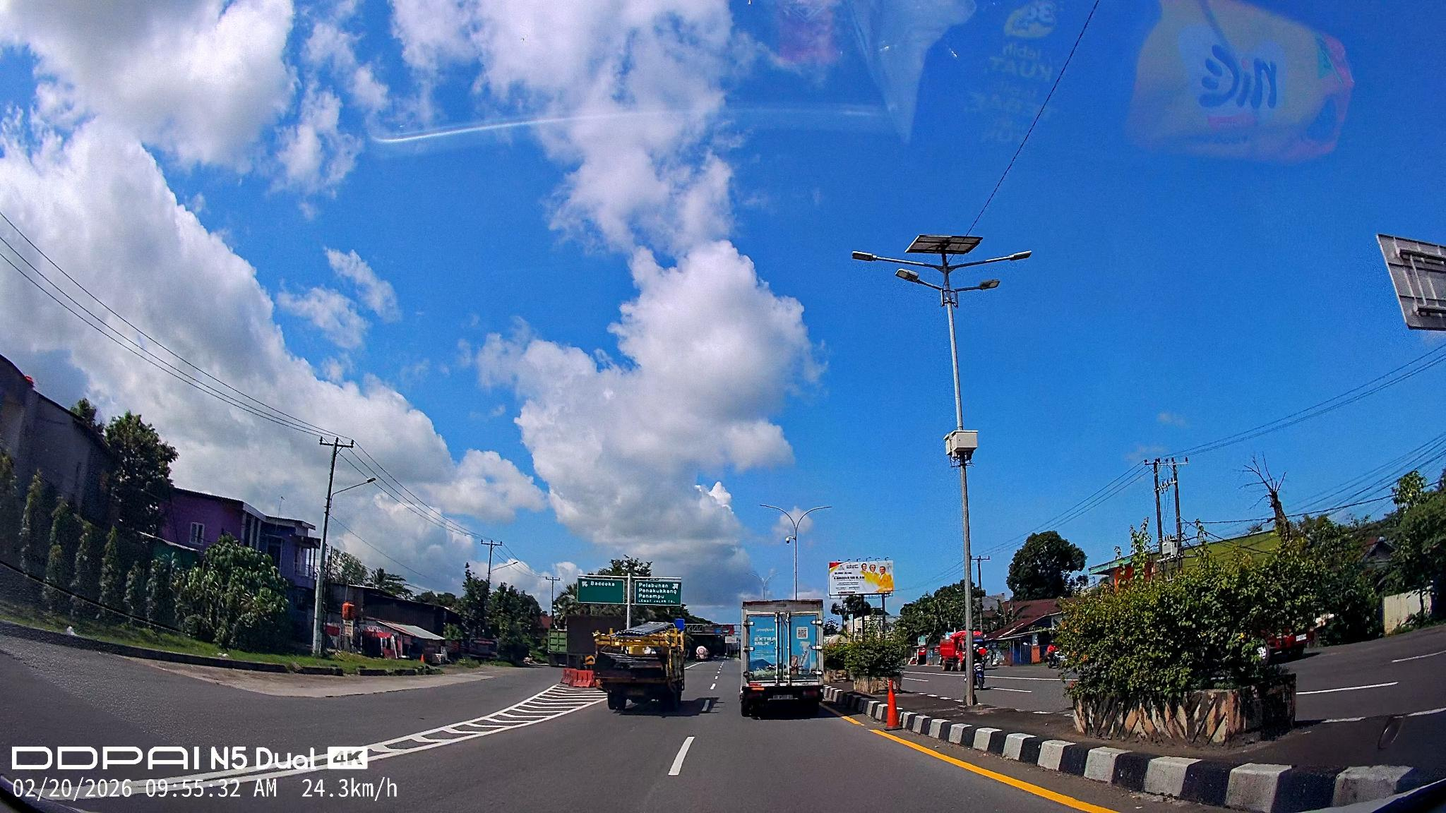rambu_teks: (576, 577, 625, 605), (635, 580, 682, 606)
